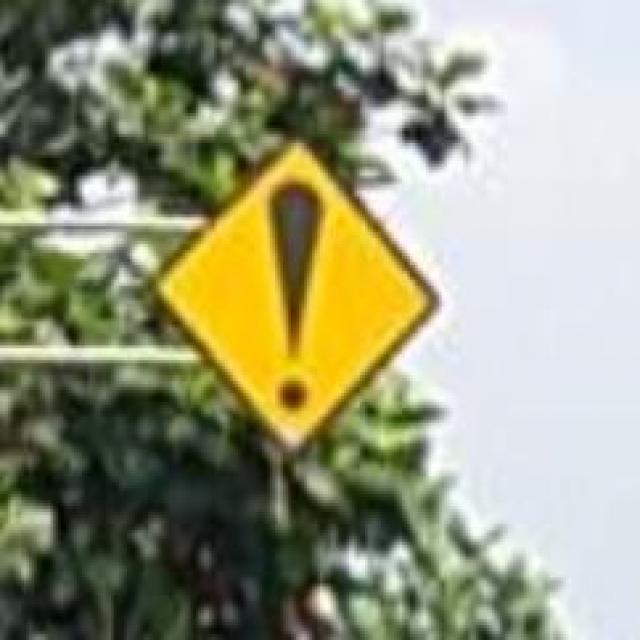traffic sign: (159, 134, 440, 446)
